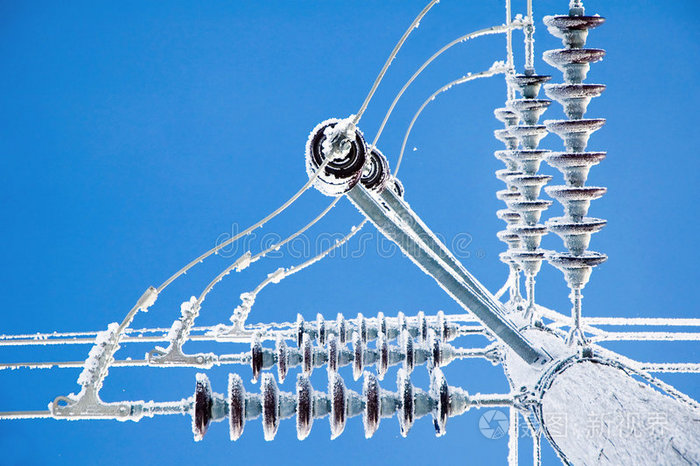insulator: (190, 368, 452, 442), (548, 12, 610, 281), (244, 336, 447, 385), (512, 68, 549, 272), (302, 122, 367, 194), (288, 312, 449, 340), (493, 108, 519, 268)
